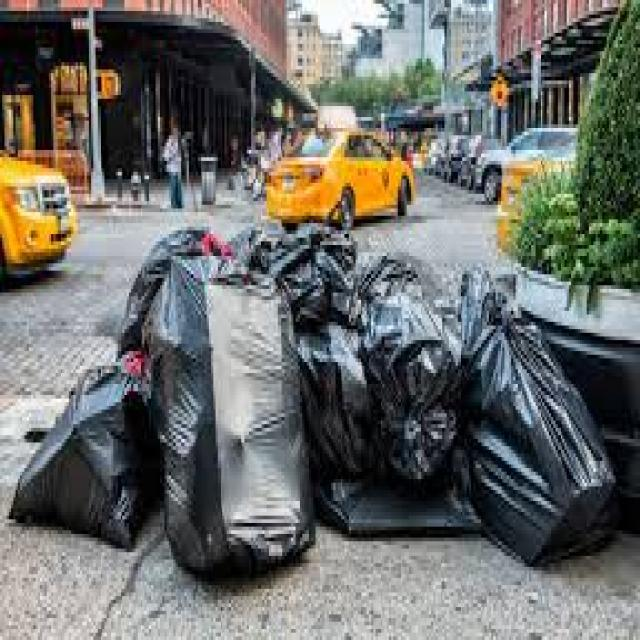garbage: (0, 217, 613, 586)
